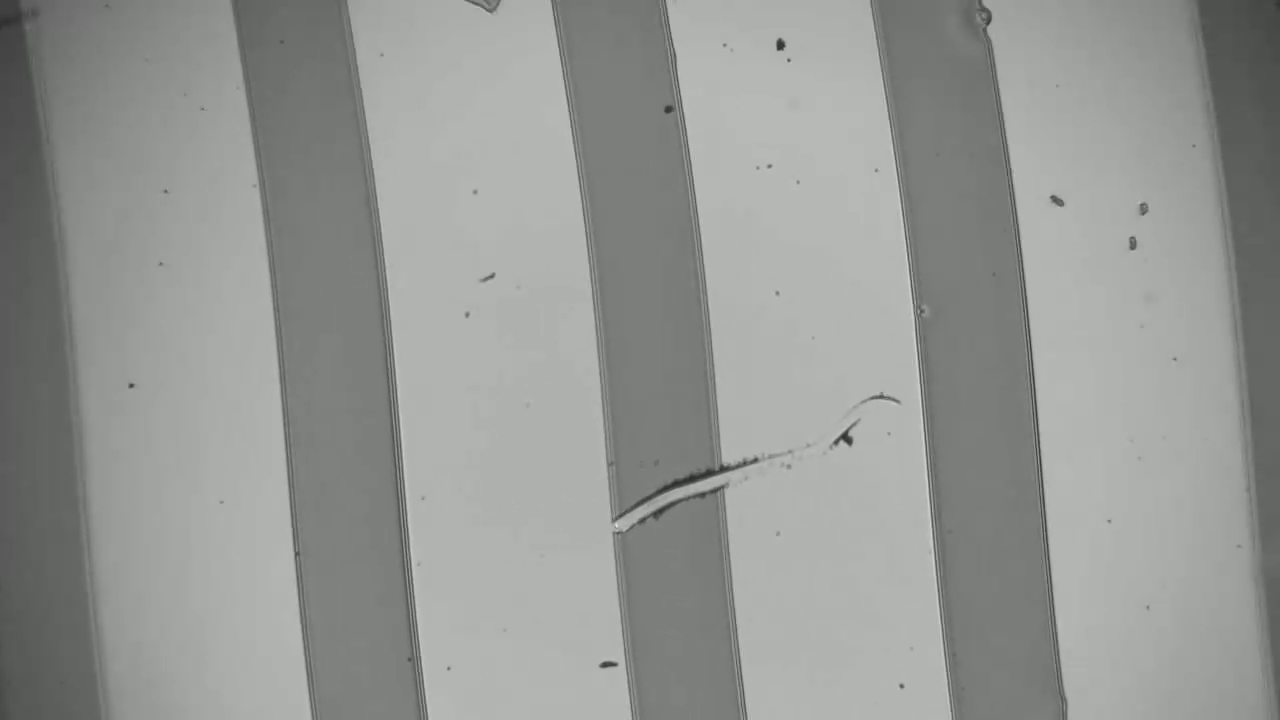Short_circuit: (576, 464, 745, 530)
